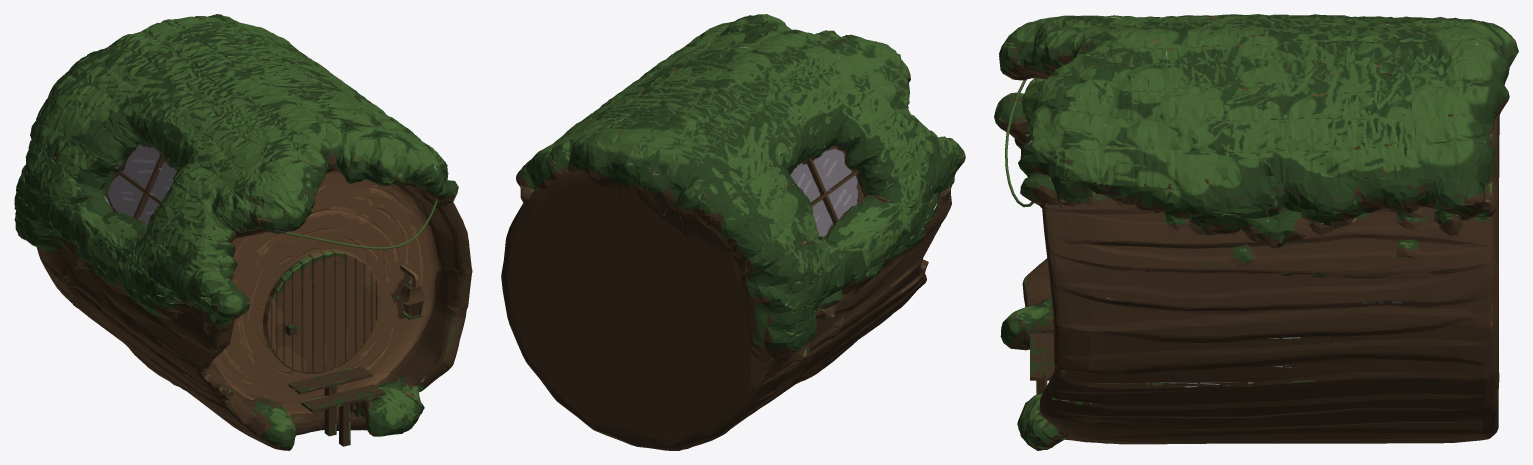
Rendered from S House.fbx.
3 views of the same model, side by side, from view 1: azimuth 30°, elevation 25°; view 2: azimuth 150°, elevation 25°; view 3: azimuth 270°, elevation 25° (orthographic). The views are drawn at different scales.
Visible parts, largest first — view 1: Cube; view 2: Cube; view 3: Cube.
Boxes of the visible parts, x1=… form: Cube: x1=14, y1=14, x2=472, y2=450; Cube: x1=501, y1=14, x2=965, y2=450; Cube: x1=994, y1=14, x2=1518, y2=450.
Size of the model in its own units: 264 by 267 by 323.
